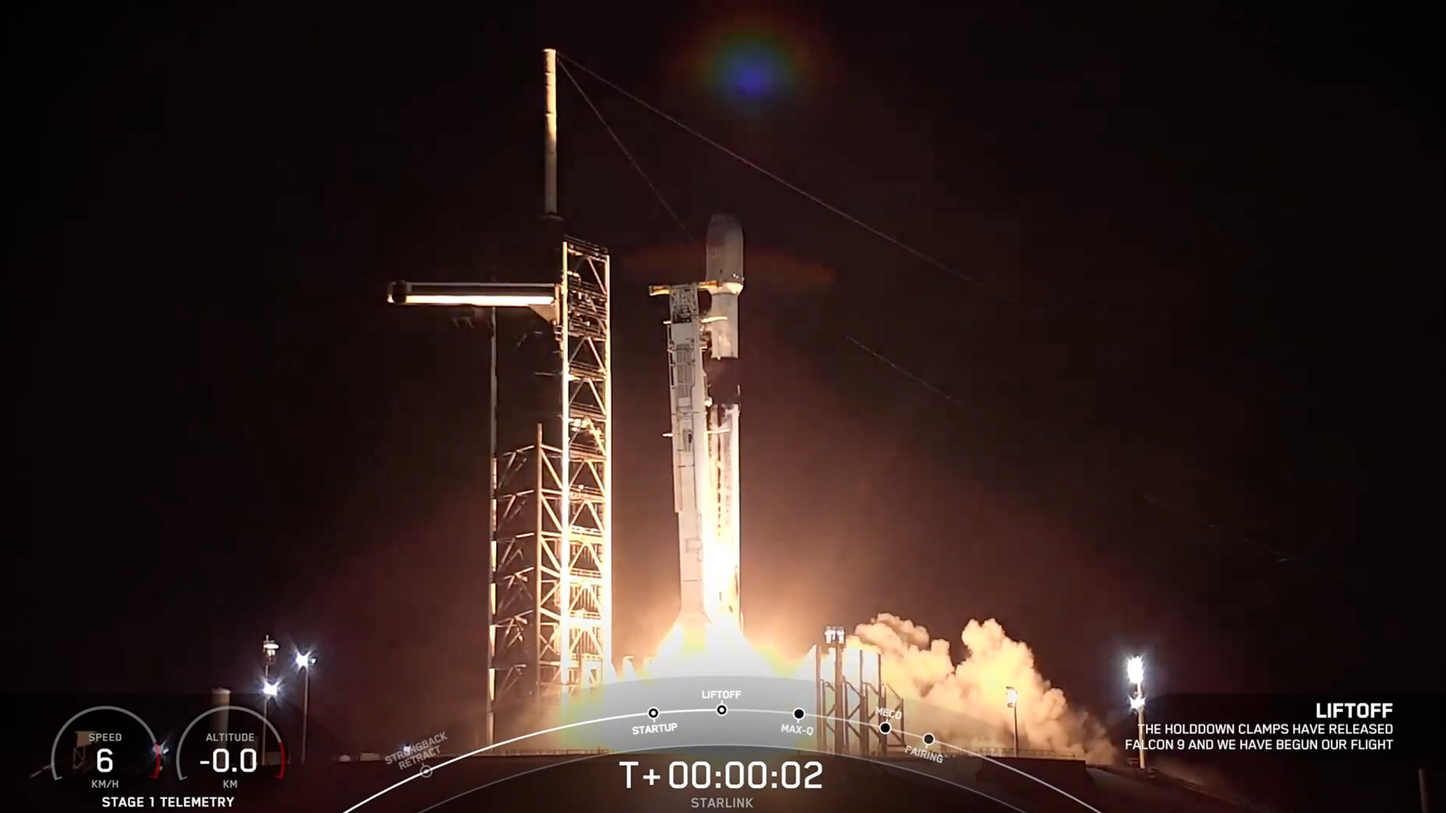falcon: (647, 205, 775, 649)
